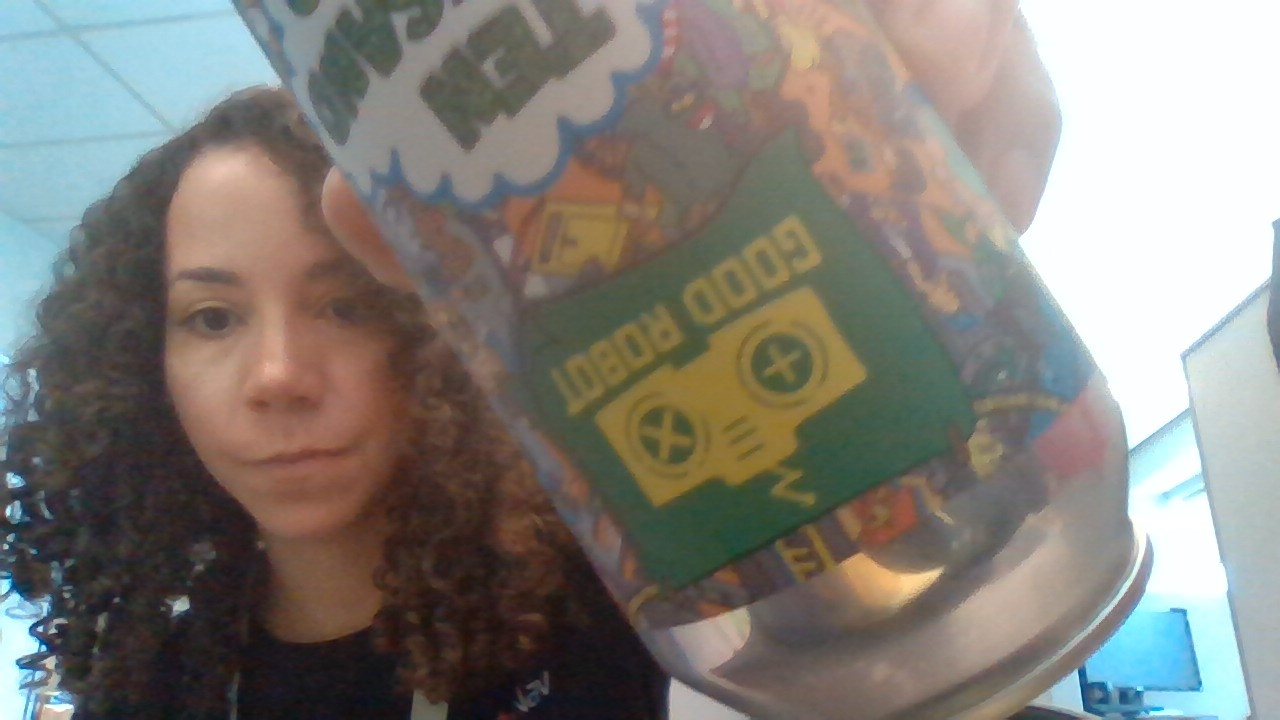Good Robot: (593, 273, 877, 511)
